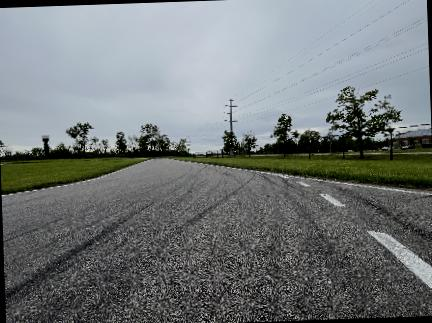Grass: (179, 156, 431, 189), (1, 159, 147, 193)
Lane: (2, 159, 431, 322)
